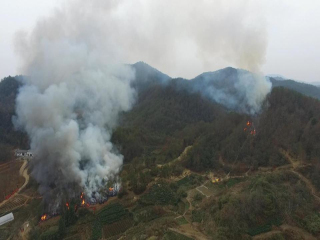smoke: (16, 8, 138, 203), (195, 13, 274, 119)
